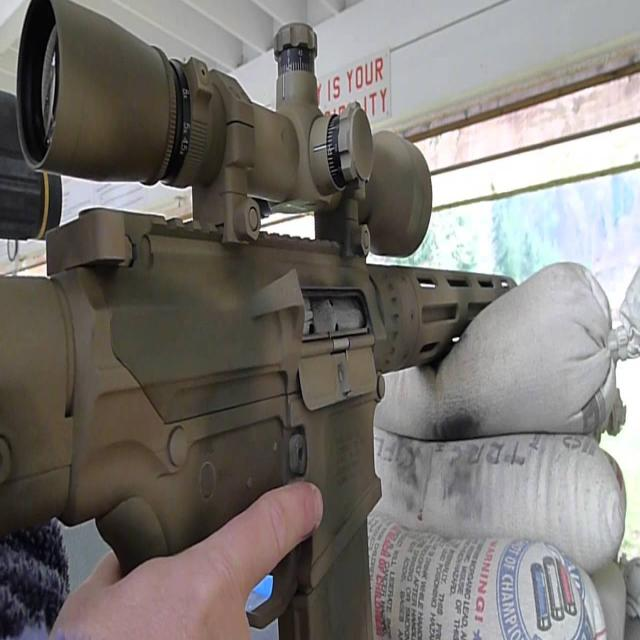Rifle: (0, 0, 516, 640)
